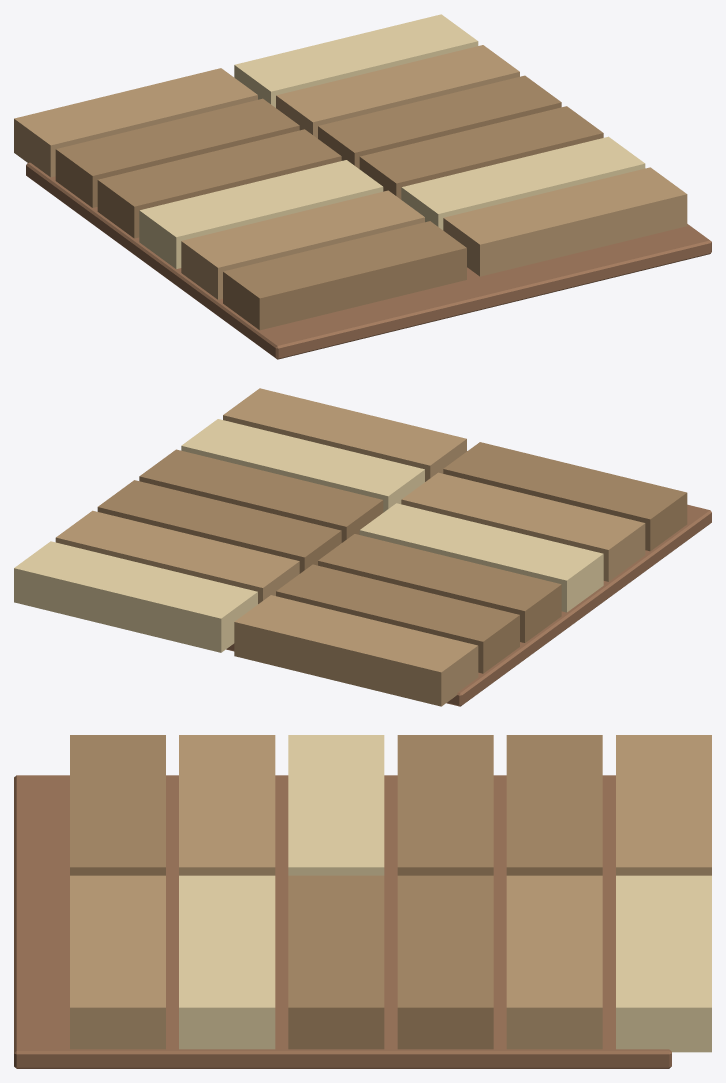
The model's file is interior_floor.glb.
The picture shows the model from 3 angles, top to bottom: view 1: azimuth 30°, elevation 25°; view 2: azimuth 150°, elevation 25°; view 3: azimuth 270°, elevation 25°; orthographic projection. The views are drawn at different scales.
Visible parts, largest first — view 1: interior_floor_detail, interior_floor_hero; view 2: interior_floor_detail, interior_floor_hero; view 3: interior_floor_detail, interior_floor_hero.
Boxes of the visible parts, <box> form: interior_floor_detail: <box>14,14,687,330</box>; interior_floor_hero: <box>26,162,711,359</box>; interior_floor_detail: <box>14,388,687,706</box>; interior_floor_hero: <box>226,451,711,706</box>; interior_floor_detail: <box>70,735,711,1052</box>; interior_floor_hero: <box>14,775,671,1068</box>.
Size of the model in its own units: 1 by 0.1 by 1.06.
